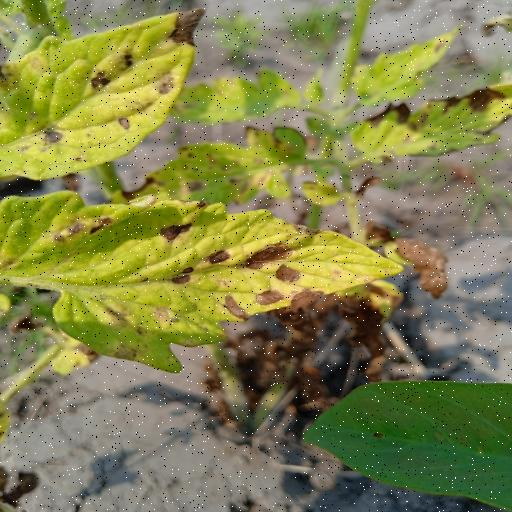Tomato_Brown_Spots: (0, 188, 412, 375), (0, 4, 206, 185)
